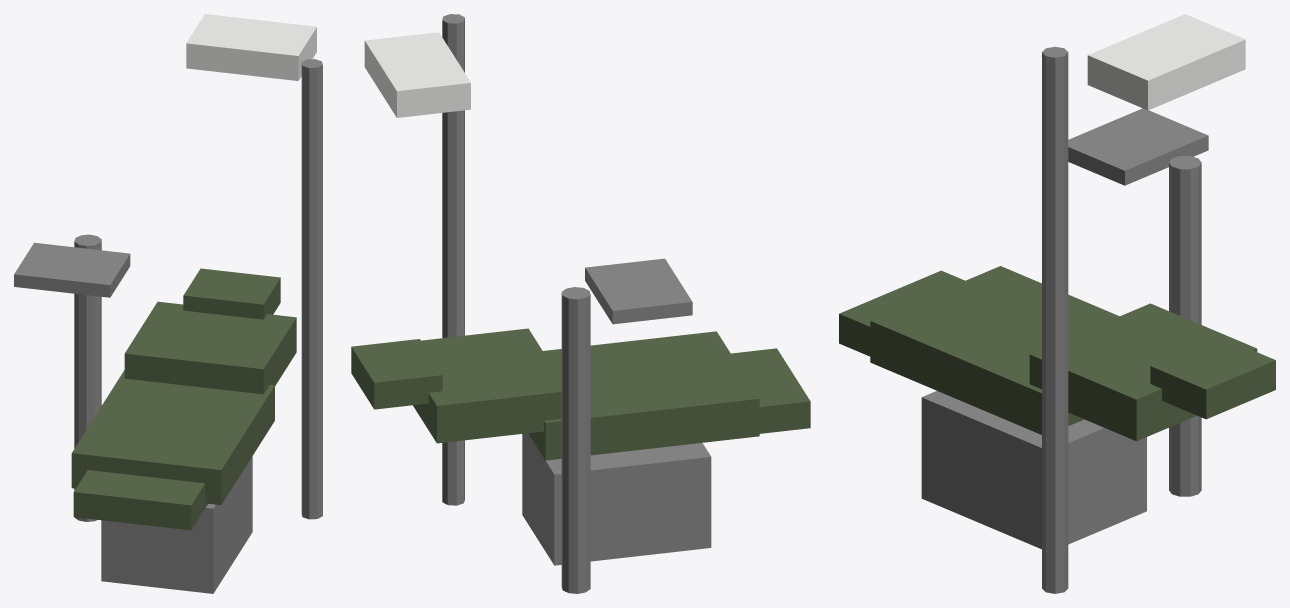
3 views of the same model, side by side, from view 1: azimuth 30°, elevation 25°; view 2: azimuth 150°, elevation 25°; view 3: azimuth 270°, elevation 25° (orthographic). The views are drawn at different scales.
Visible parts, largest first — view 1: sillon_ortho_0; view 2: sillon_ortho_0; view 3: sillon_ortho_0.
Boxes of the visible parts, left/top/right/bottom form: sillon_ortho_0: left=14, top=14, right=322, bottom=593; sillon_ortho_0: left=351, top=14, right=810, bottom=593; sillon_ortho_0: left=839, top=14, right=1275, bottom=593.
Bounding box in the file's own units: 1.38 × 1.33 × 1.8.
